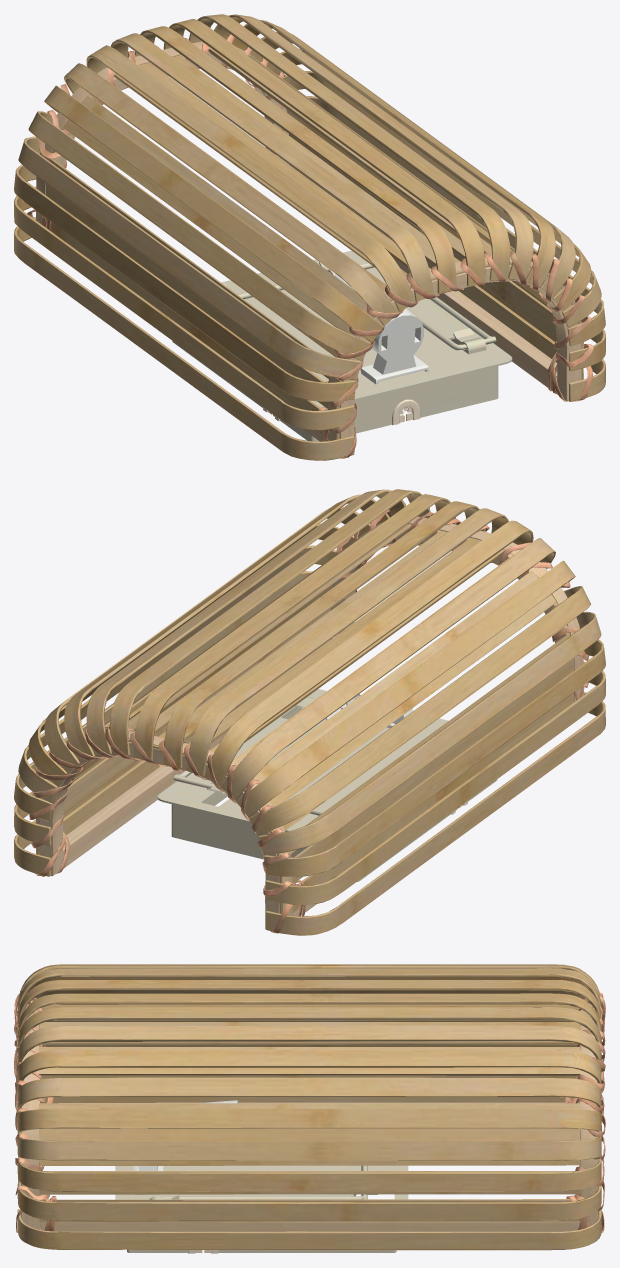
File: varptross_lampa_scienna_staa_instalacja_20595132.glb
3 renders of one model, top to bottom at view 1: azimuth 30°, elevation 25°; view 2: azimuth 150°, elevation 25°; view 3: azimuth 270°, elevation 25°, orthographic. The views are drawn at different scales.
Visible parts, largest first — view 1: varptross_lampa_scienna_staa_instalacja_20595132; view 2: varptross_lampa_scienna_staa_instalacja_20595132; view 3: varptross_lampa_scienna_staa_instalacja_20595132.
Boxes of the visible parts, <box> form: varptross_lampa_scienna_staa_instalacja_20595132: <box>14,14,605,460</box>; varptross_lampa_scienna_staa_instalacja_20595132: <box>14,489,605,935</box>; varptross_lampa_scienna_staa_instalacja_20595132: <box>14,964,605,1253</box>.
Bounding box in the file's own units: 0.1801 × 0.1234 × 0.3031.
1 material, 1 textured.
